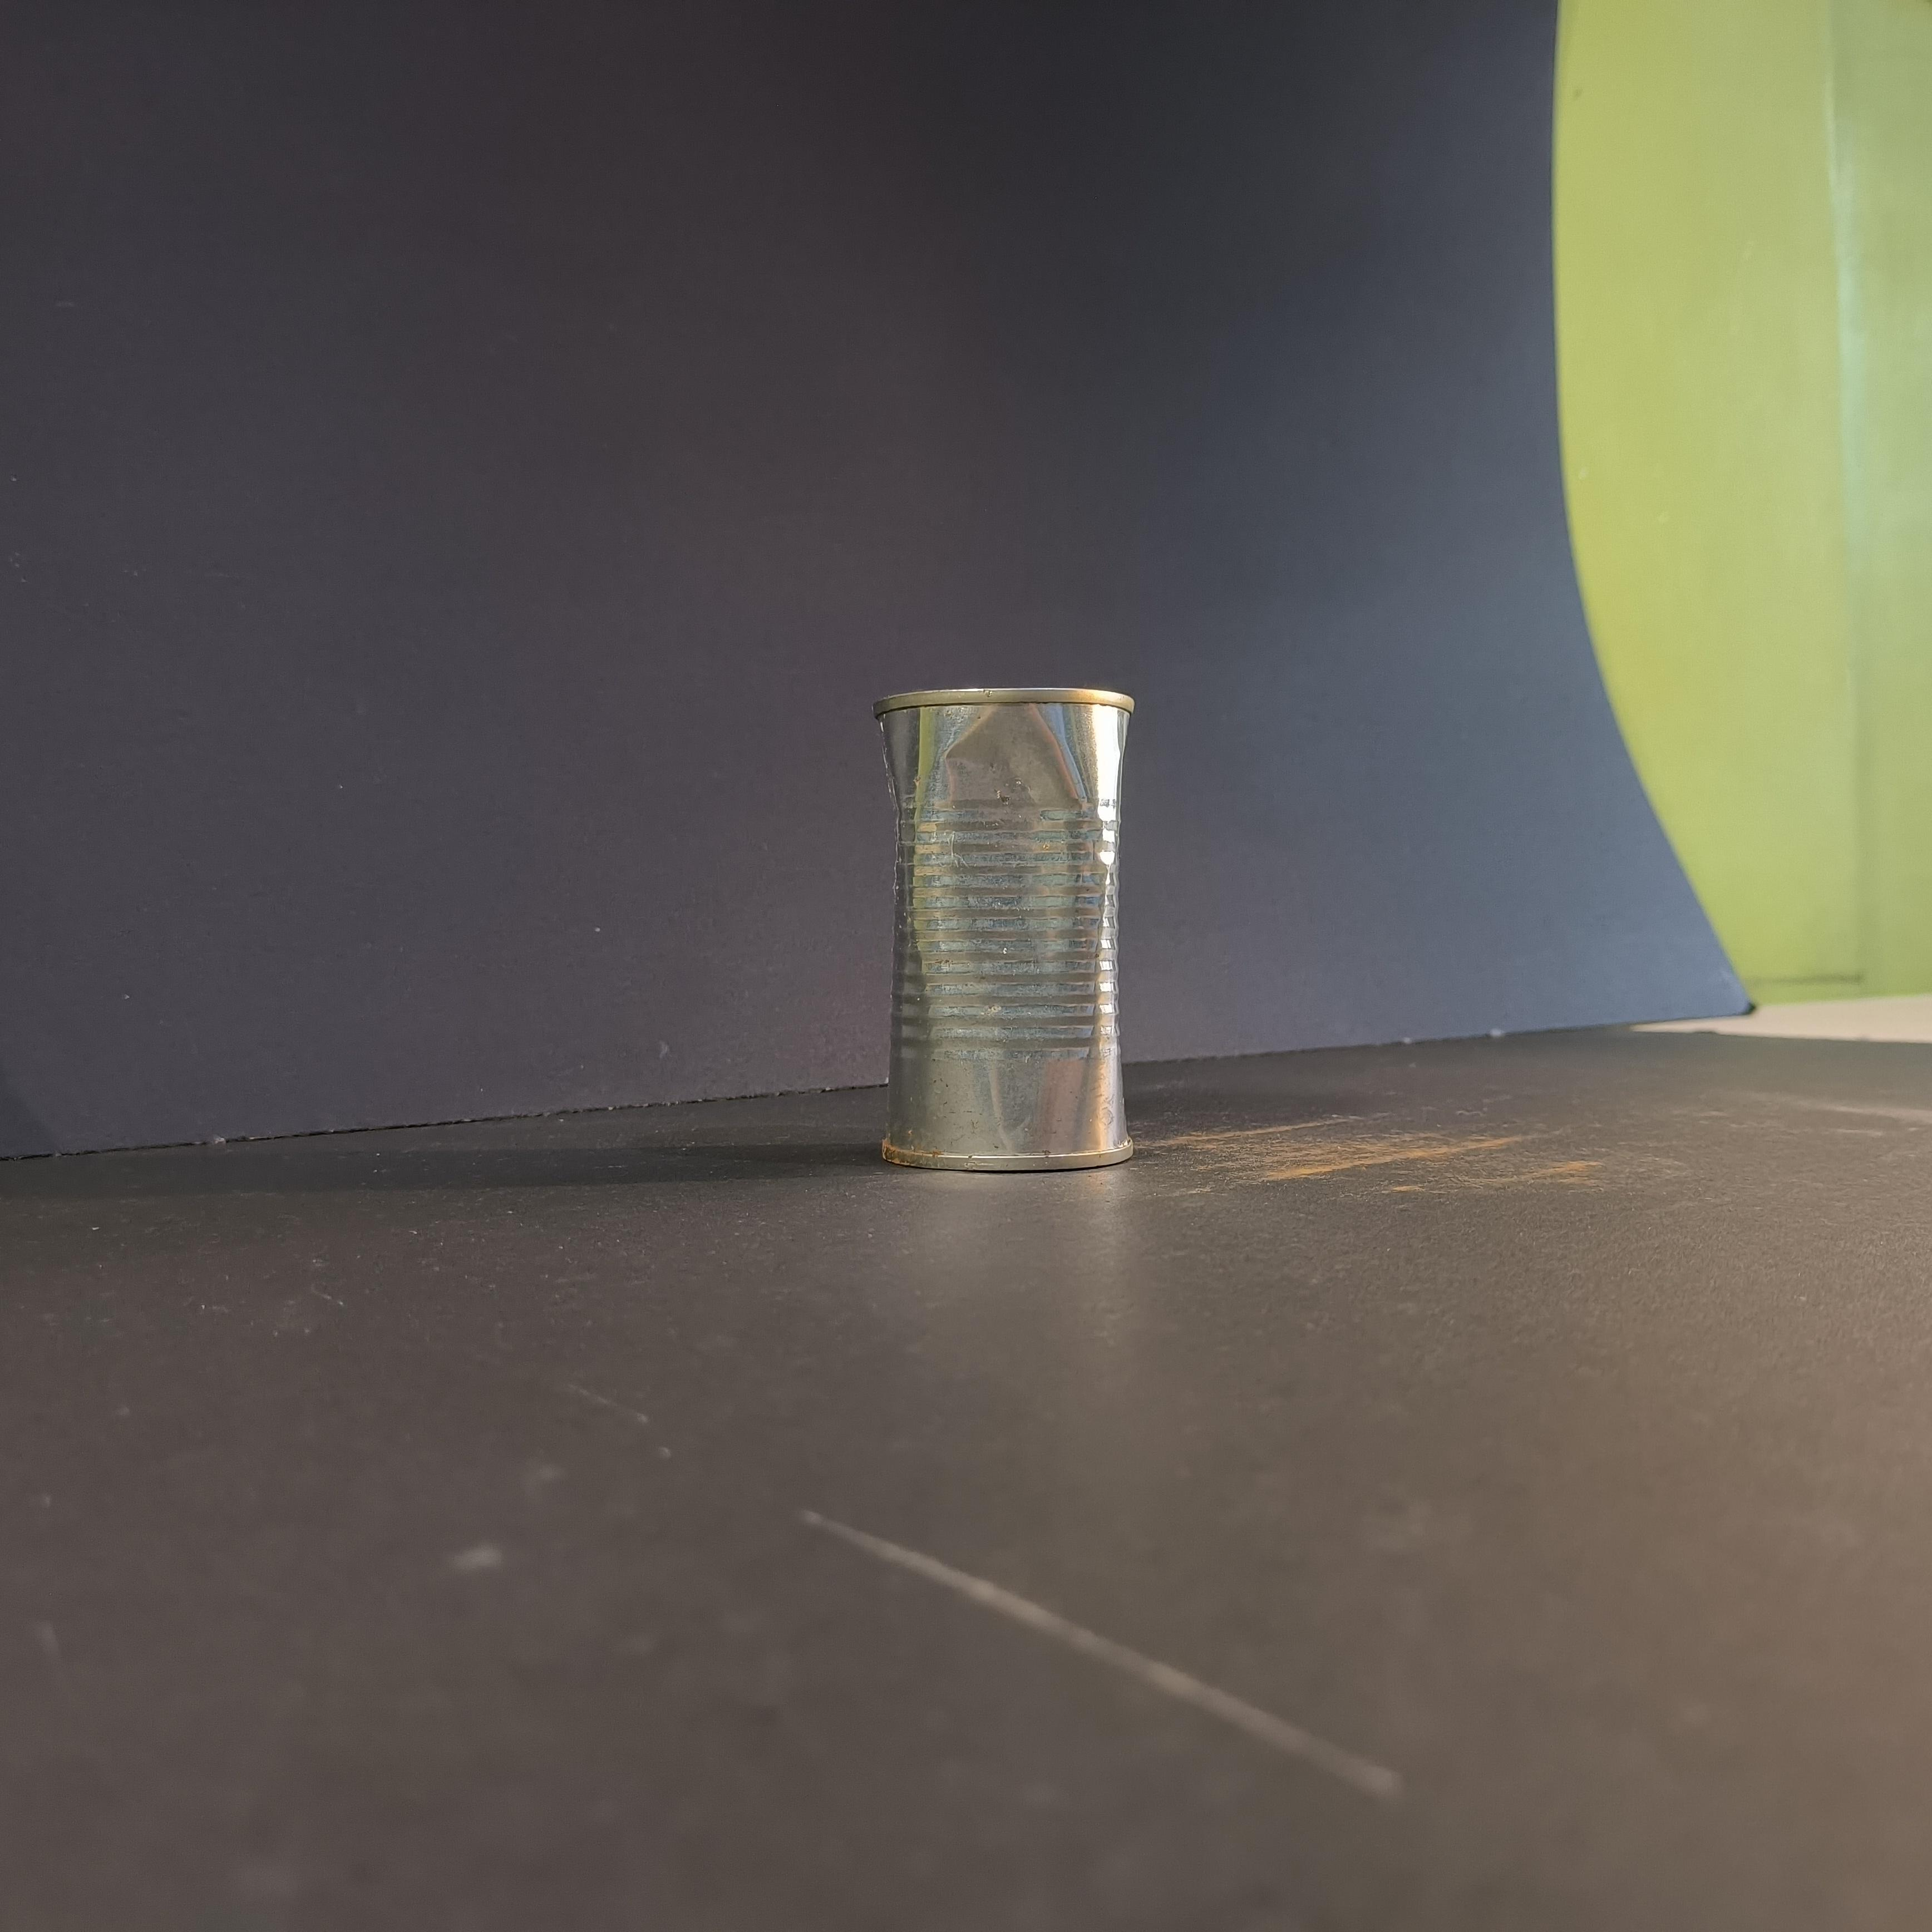Dented: (842, 655, 1161, 1200)
